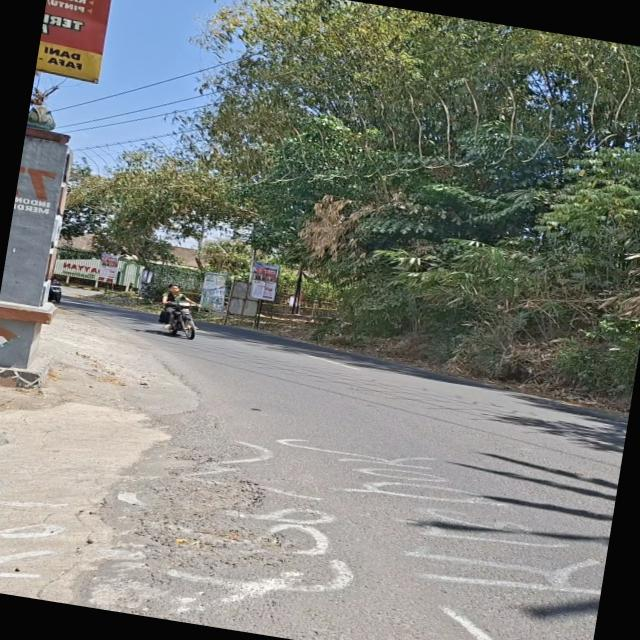WithoutHelmet: (156, 282, 206, 334)
